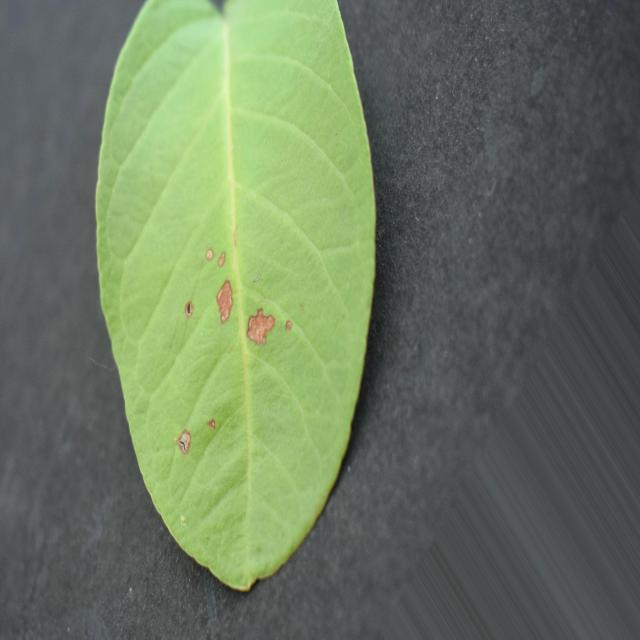Dot: (96, 0, 375, 591)
